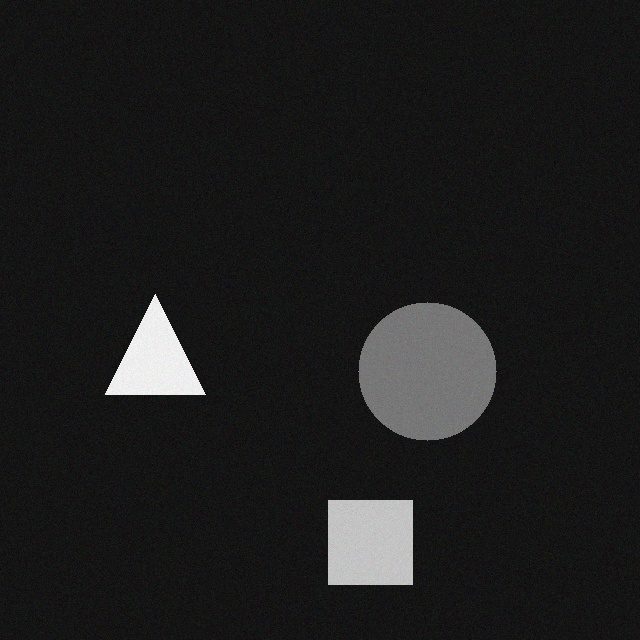circle: (355, 299, 493, 437)
square: (325, 497, 409, 581)
triangle: (102, 291, 202, 391)
